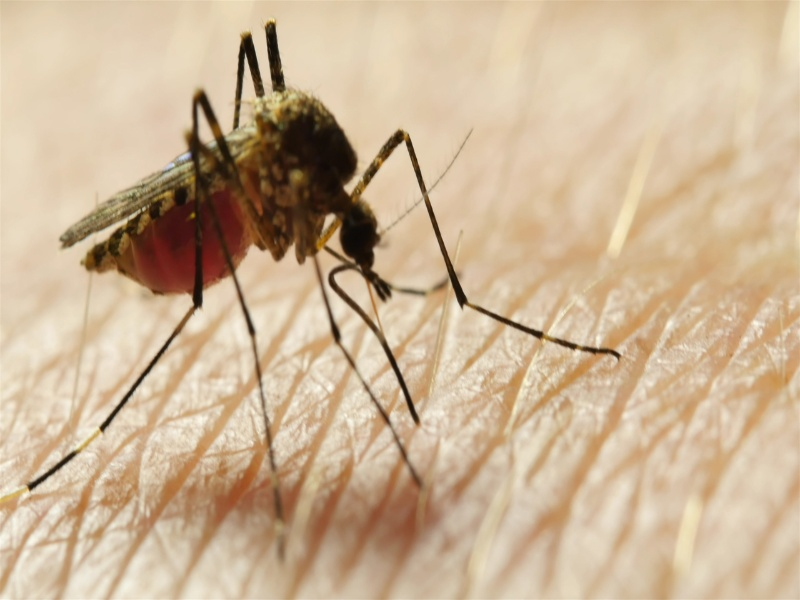dengue_mosquito: (60, 21, 466, 364)
